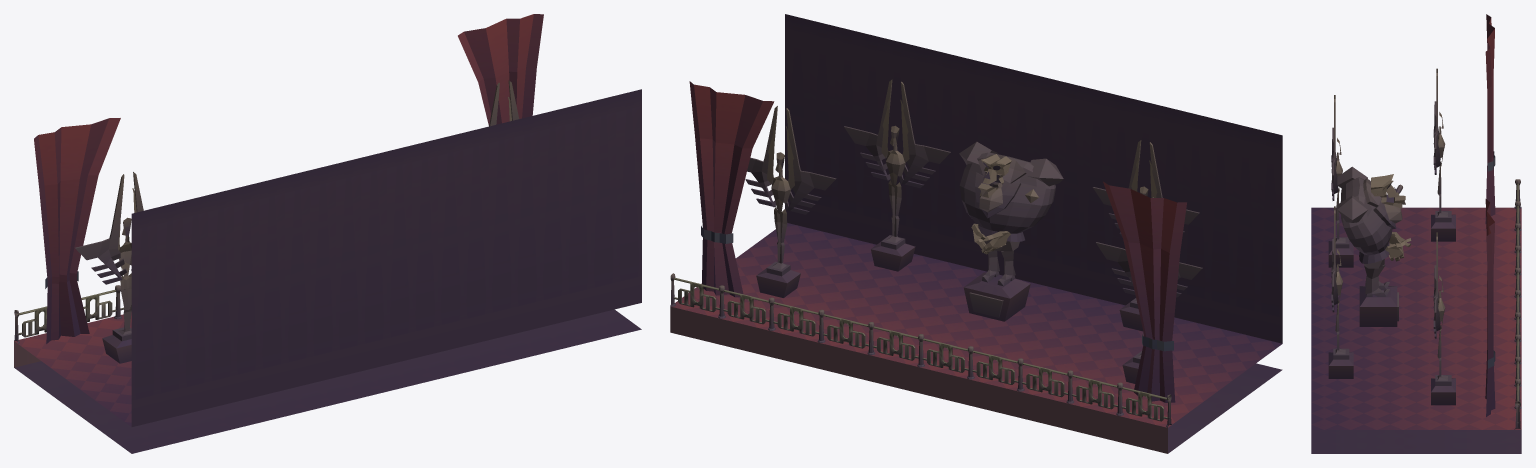
File: SM_ArtRoom-C.fbx
3 renders of one model, left to right at view 1: azimuth 30°, elevation 25°; view 2: azimuth 150°, elevation 25°; view 3: azimuth 270°, elevation 25°, orthographic. The views are drawn at different scales.
Parts seen in each view (by area): view 1: SM_ArtroomC; view 2: SM_ArtroomC; view 3: SM_ArtroomC.
Boxes of the visible parts, x1,y1,x2,y2 form: SM_ArtroomC: (14, 14, 641, 453); SM_ArtroomC: (670, 14, 1282, 453); SM_ArtroomC: (1311, 14, 1521, 453).
Bounding box in the file's own units: 2000 × 800 × 912.
